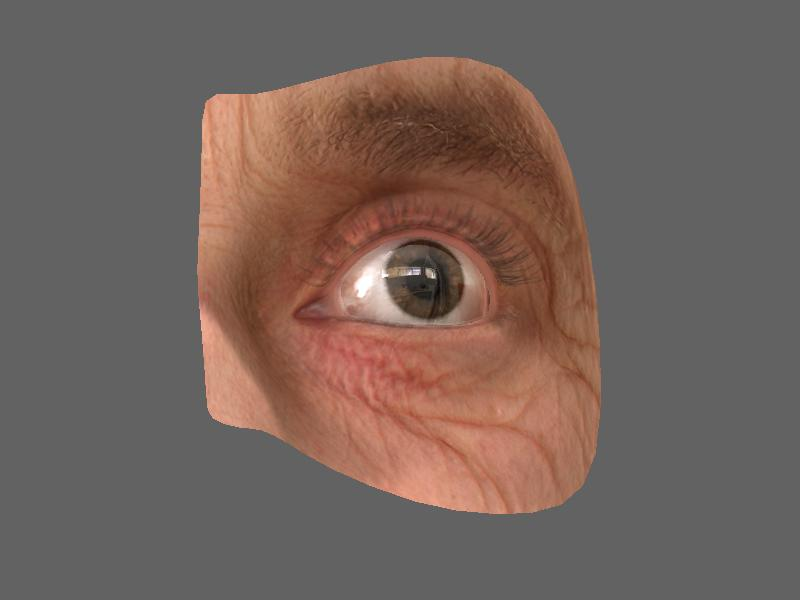iris: (379, 243, 474, 324)
